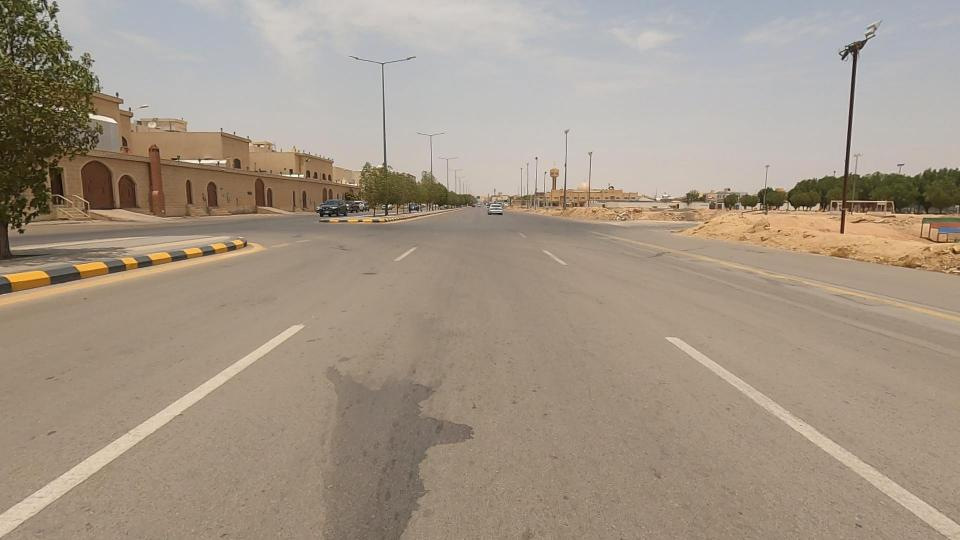GARBAGE: (588, 209, 645, 229)
